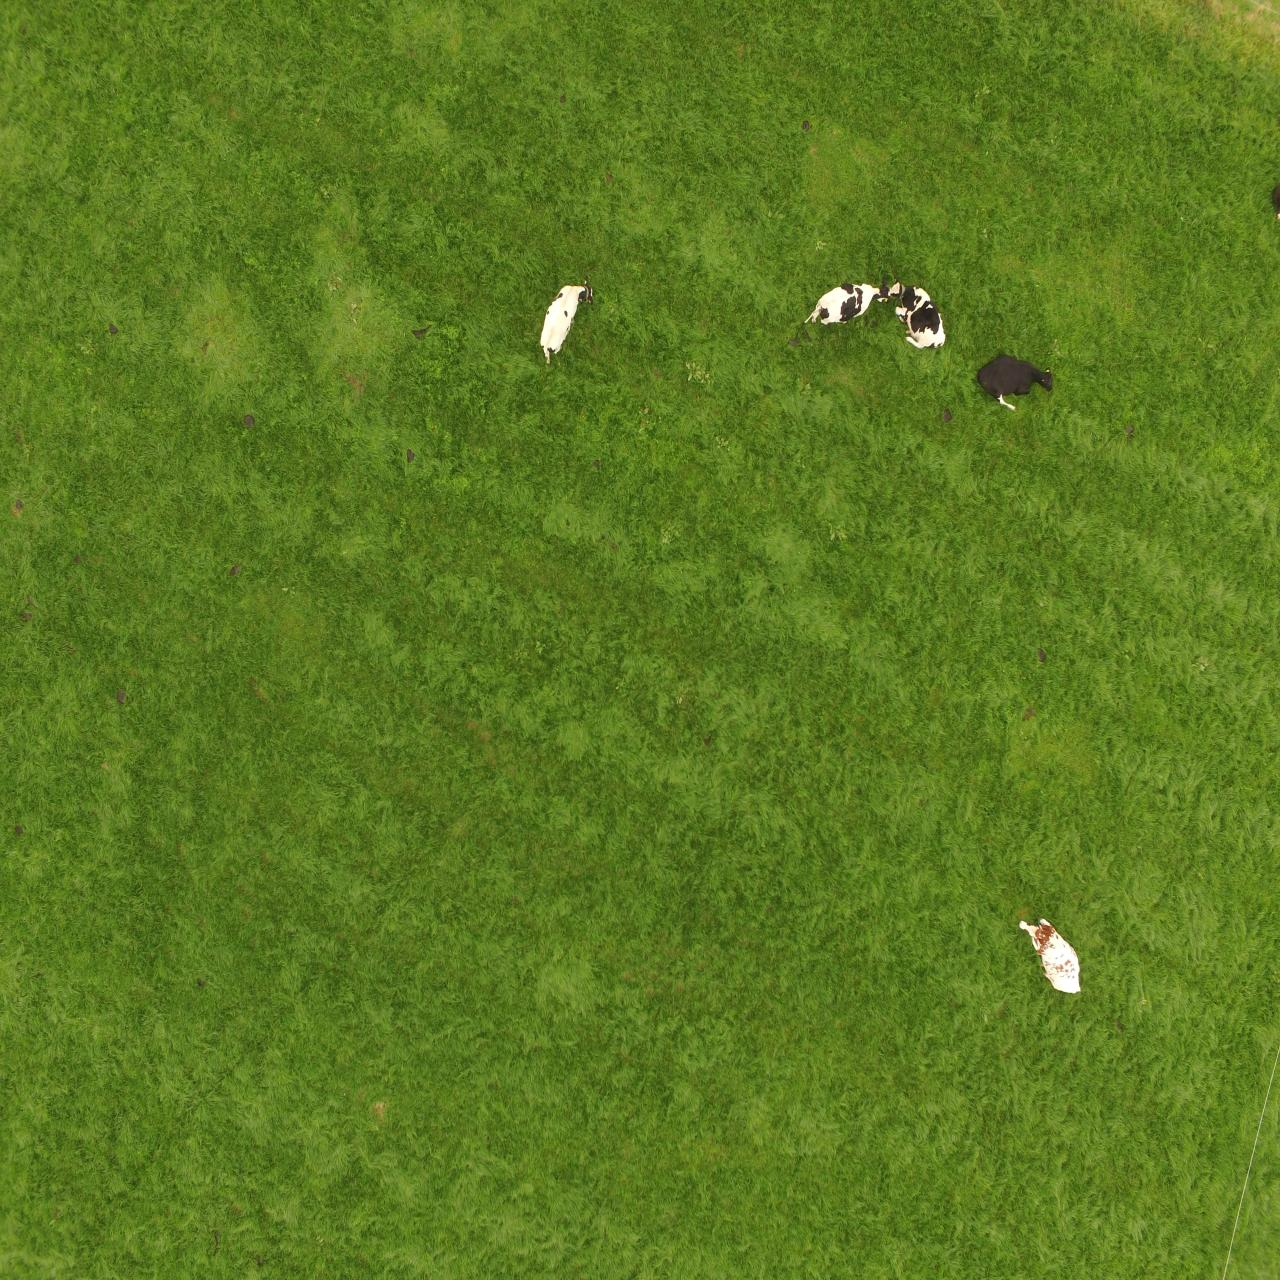cow: (525, 275, 592, 381), (969, 340, 1058, 413), (1016, 917, 1082, 996), (799, 280, 888, 331), (892, 282, 951, 342)
